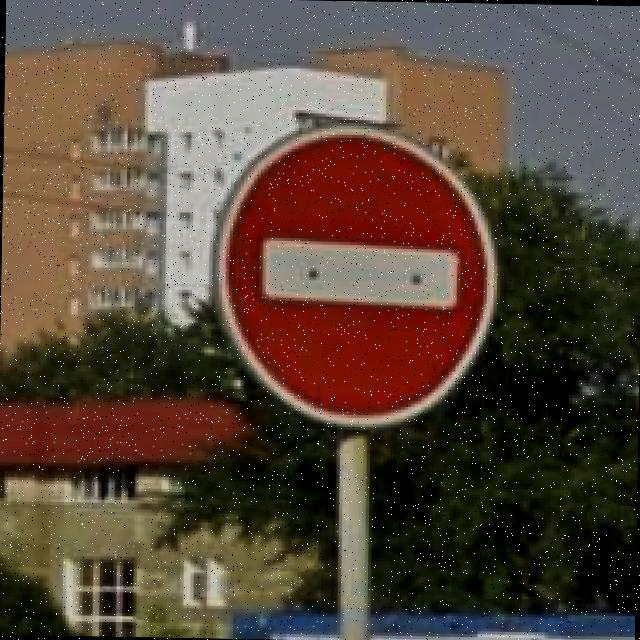Zakaz wjazdu: (209, 120, 506, 432)
